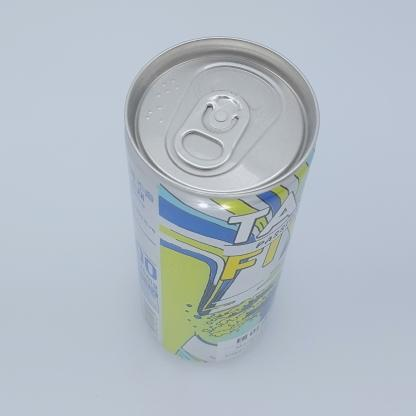---------: (124, 37, 320, 362)
